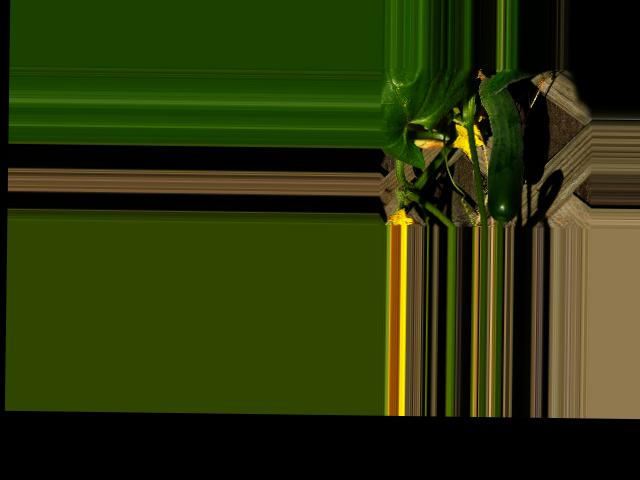cucumber: (477, 69, 526, 220)
